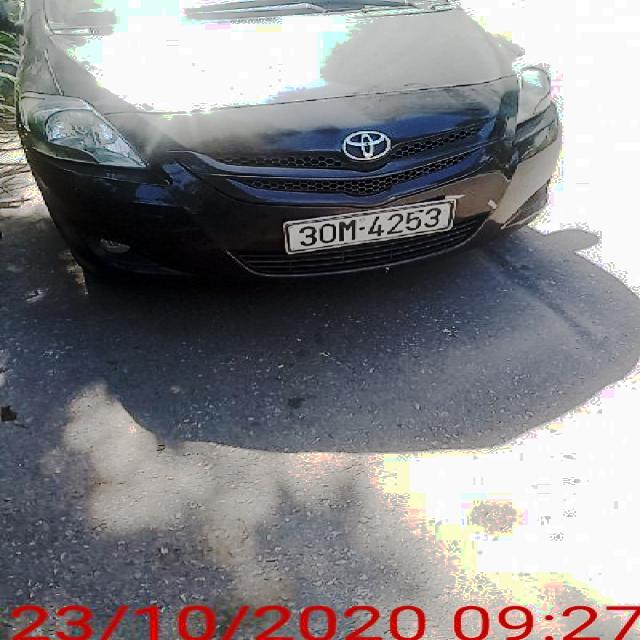license_plate: (283, 201, 454, 255)
